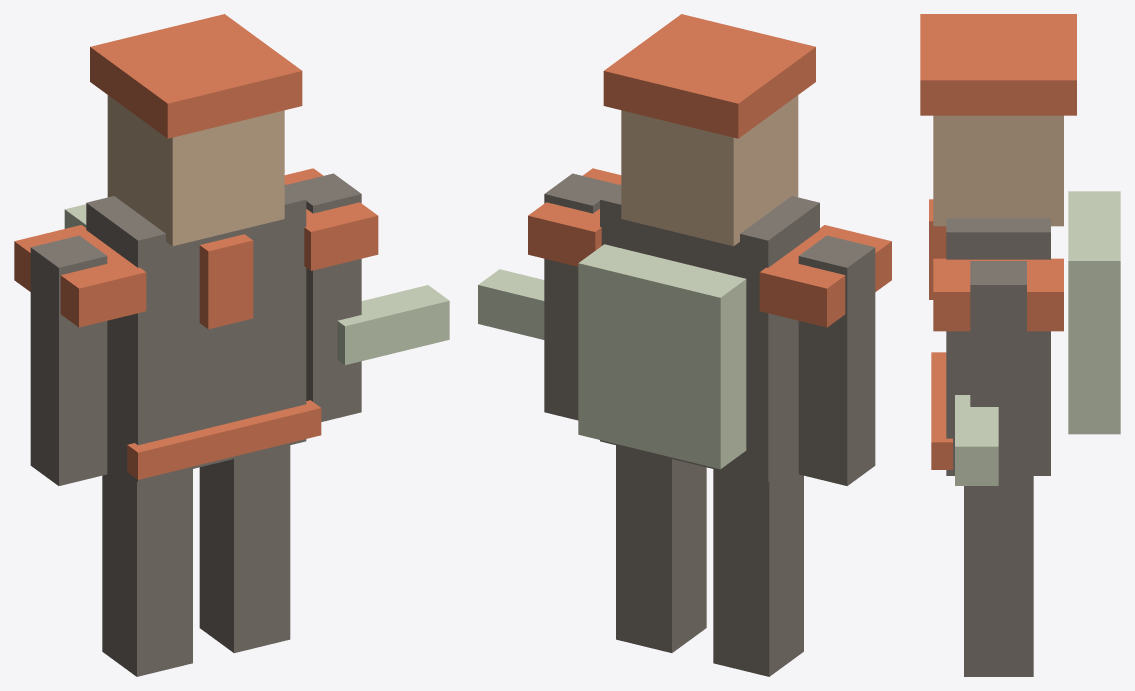
Rendered from 05_asha_ironwake_specialist_from_dustline.glb.
3 views of the same model, side by side, from view 1: azimuth 30°, elevation 25°; view 2: azimuth 150°, elevation 25°; view 3: azimuth 270°, elevation 25° (orthographic).
Visible parts, largest first — view 1: Asha Ironwake, Specialist from Dustline; view 2: Asha Ironwake, Specialist from Dustline; view 3: Asha Ironwake, Specialist from Dustline.
Boxes of the visible parts, box(x1,y1,x2,y2) form: Asha Ironwake, Specialist from Dustline: box(14, 14, 449, 676); Asha Ironwake, Specialist from Dustline: box(478, 14, 891, 676); Asha Ironwake, Specialist from Dustline: box(920, 14, 1120, 676).
Bounding box in the file's own units: 1.12 × 1.65 × 0.5047.
